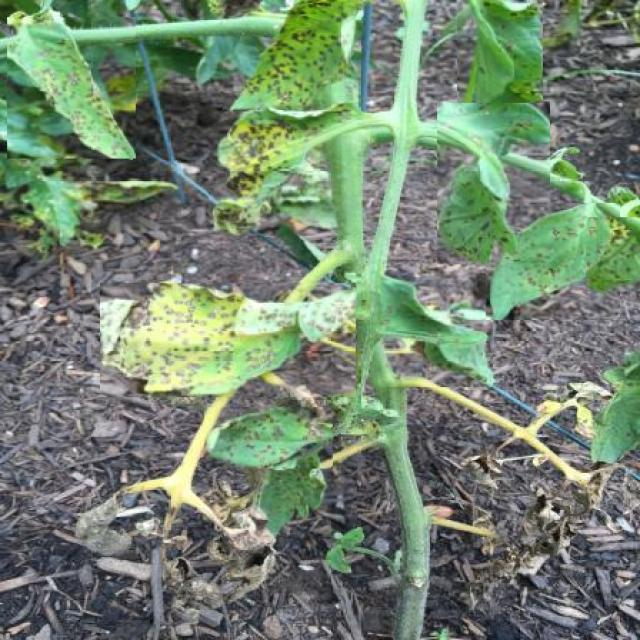Septoria: (100, 282, 356, 398), (209, 105, 372, 236), (437, 102, 550, 265), (7, 17, 136, 159), (223, 5, 394, 112), (486, 204, 620, 320), (370, 272, 493, 387), (249, 450, 357, 539), (457, 0, 543, 103), (205, 407, 334, 469), (585, 217, 640, 292)
